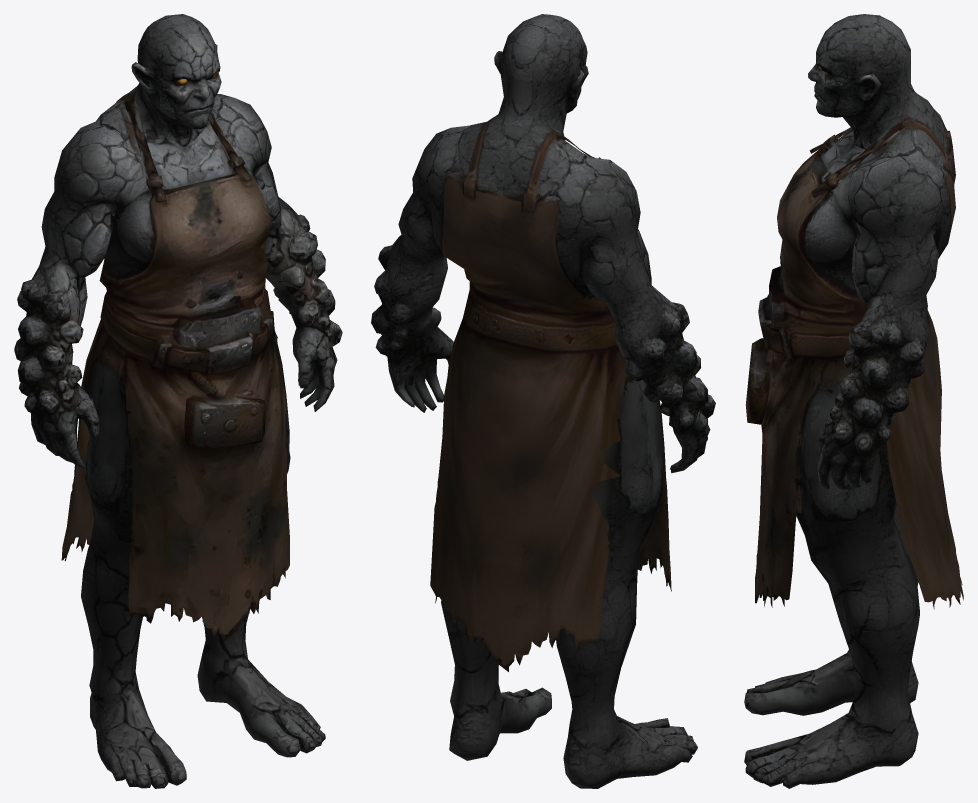
The picture shows the model from 3 angles, left to right: view 1: azimuth 30°, elevation 25°; view 2: azimuth 150°, elevation 25°; view 3: azimuth 270°, elevation 25°; orthographic projection. The views are drawn at different scales.
Visible parts, largest first — view 1: tripo_node_13efa3c1-e5b2-4190-adc8-ade96006443f; view 2: tripo_node_13efa3c1-e5b2-4190-adc8-ade96006443f; view 3: tripo_node_13efa3c1-e5b2-4190-adc8-ade96006443f.
Boxes of the visible parts, <box> form: tripo_node_13efa3c1-e5b2-4190-adc8-ade96006443f: <box>14,14,342,788</box>; tripo_node_13efa3c1-e5b2-4190-adc8-ade96006443f: <box>371,14,715,788</box>; tripo_node_13efa3c1-e5b2-4190-adc8-ade96006443f: <box>744,14,963,788</box>.
Size of the model in its own units: 0.4629 by 0.998 by 0.2754.
1 material, 1 textured.
